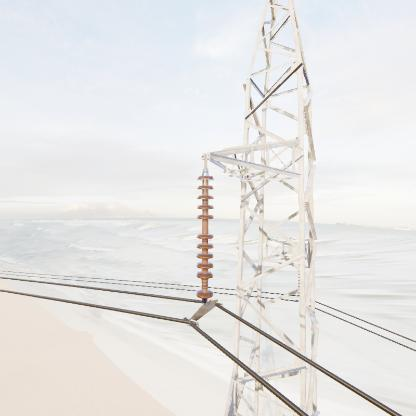insulator: (194, 169, 214, 305)
